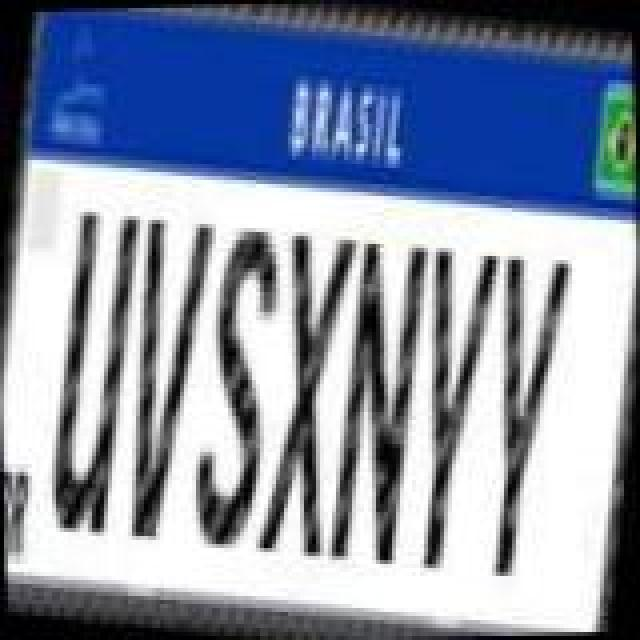N: (314, 228, 438, 568)
S: (174, 218, 298, 554)
U: (34, 200, 150, 536)
V: (102, 208, 226, 548)
X: (242, 224, 366, 560)
Y: (388, 240, 512, 576), (460, 248, 584, 584)
